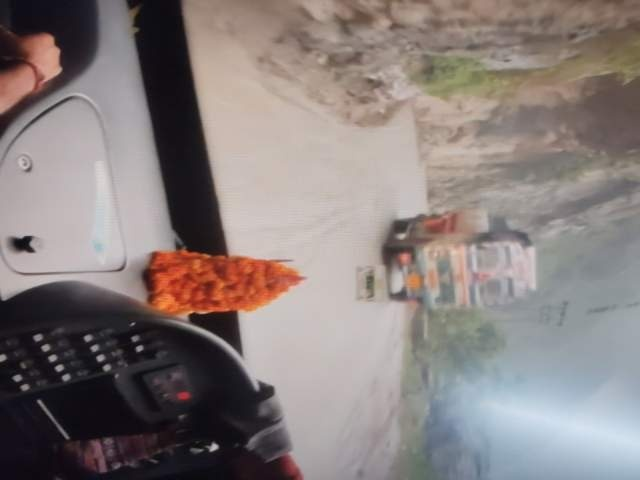pothole: (206, 311, 306, 391)
